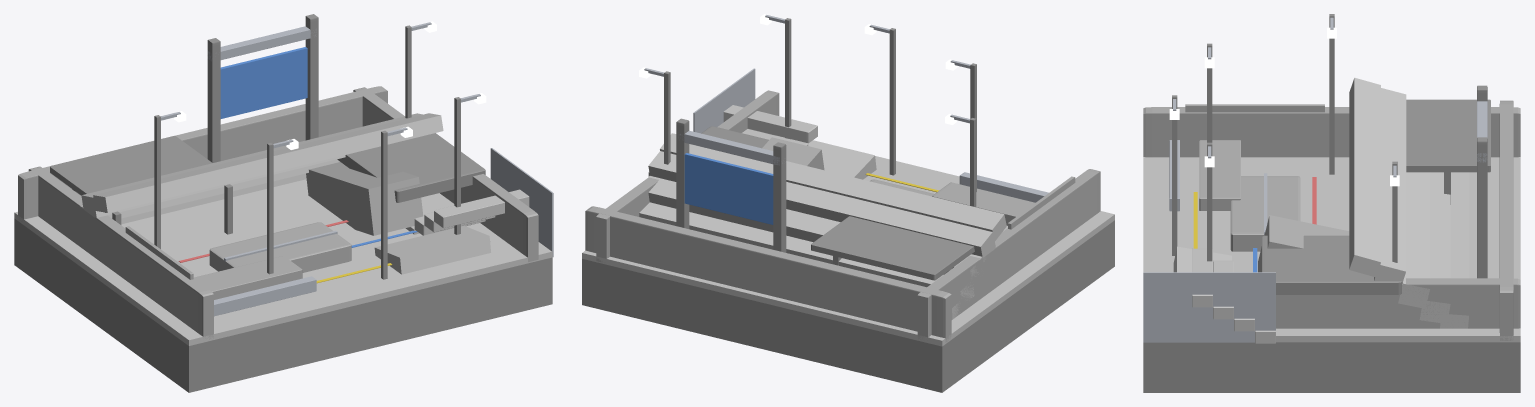
File: urban.glb
The picture shows the model from 3 angles, left to right: view 1: azimuth 30°, elevation 25°; view 2: azimuth 150°, elevation 25°; view 3: azimuth 270°, elevation 25°; orthographic projection. The views are drawn at different scales.
Visible parts, largest first — view 1: Cube.070, Cube.071, Cube.072, Cube.079, Cube.074, Cube.101, Cube.100, Cube.095, Cube.093, Cube.073, Cube.088, Cube.087 (+16 smaller); view 2: Cube.070, Cube.074, Cube.071, Cube.072, Cube.095, Cube.079, Cube.078, Cube.093, Cube.076, Cube.073, Cube.077, Cube.084 (+15 smaller); view 3: Cube.070, Cube.071, Cube.072, Cube.084, Cube.073, Cube.079, Cube.095, Cube.100, Cube.078, Cube.088, Cube.074, Cube.077 (+16 smaller).
Boxes of the visible parts, x1,y1,x2,y2 form: Cube.070: (14, 218, 552, 392); Cube.071: (14, 179, 552, 345); Cube.072: (28, 166, 213, 339); Cube.079: (93, 113, 443, 212); Cube.074: (18, 86, 387, 221); Cube.101: (306, 162, 423, 235); Cube.100: (337, 133, 485, 202); Cube.095: (50, 136, 212, 212); Cube.093: (220, 47, 307, 118); Cube.073: (353, 87, 538, 262); Cube.088: (209, 222, 351, 272); Cube.087: (374, 225, 490, 274); Cube.070: (582, 220, 1114, 392); Cube.074: (585, 206, 951, 342); Cube.071: (582, 135, 1114, 346); Cube.072: (917, 169, 1100, 340); Cube.095: (811, 216, 974, 280); Cube.079: (660, 133, 1006, 241); Cube.078: (648, 151, 995, 261); Cube.093: (684, 153, 773, 224); Cube.076: (639, 202, 974, 300); Cube.073: (596, 90, 779, 262); Cube.077: (648, 176, 982, 278); Cube.084: (693, 68, 755, 133); Cube.070: (1143, 342, 1520, 392); Cube.071: (1143, 157, 1520, 342); Cube.072: (1143, 107, 1520, 157); Cube.084: (1143, 272, 1275, 342); Cube.073: (1276, 278, 1520, 328); Cube.079: (1349, 77, 1380, 277); Cube.095: (1406, 99, 1490, 172); Cube.100: (1262, 235, 1401, 294); Cube.078: (1374, 88, 1406, 283); Cube.088: (1230, 176, 1300, 251); Cube.074: (1499, 100, 1513, 340); Cube.077: (1398, 172, 1430, 308).
Bounding box in the file's own units: 13.1 × 6.8 × 10.8.
